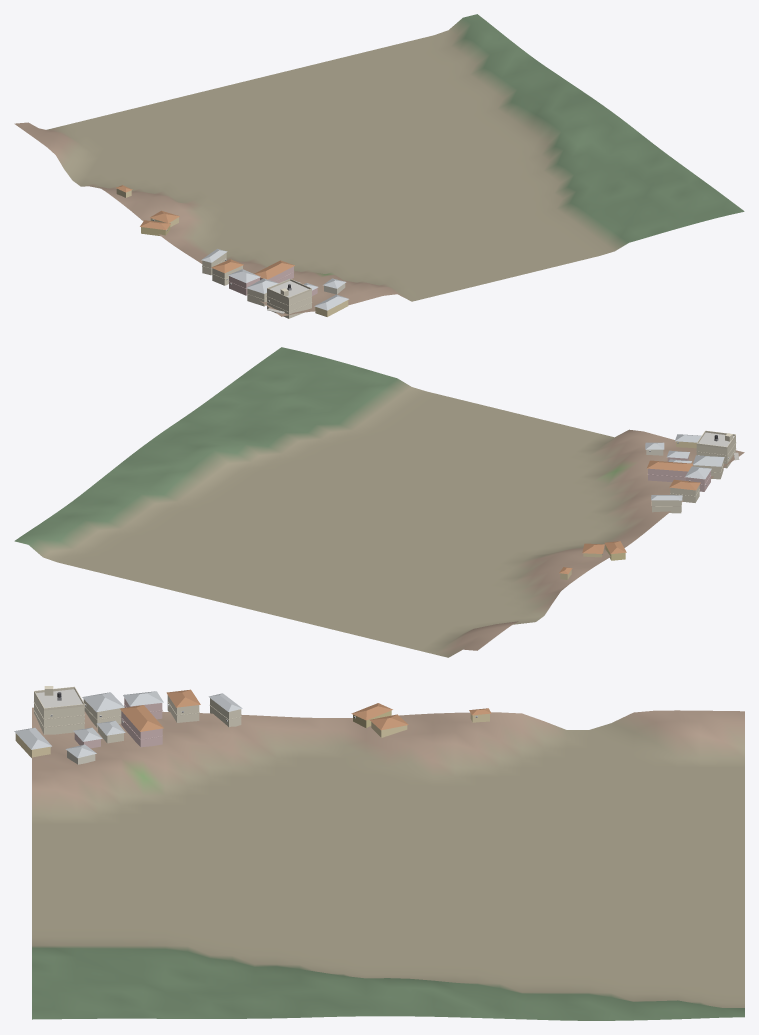
The picture shows the model from 3 angles, top to bottom: view 1: azimuth 30°, elevation 25°; view 2: azimuth 150°, elevation 25°; view 3: azimuth 270°, elevation 25°; orthographic projection. The views are drawn at different scales.
Parts seen in each view (by area): view 1: Terrain-col, Buildings-col, Details; view 2: Terrain-col, Buildings-col, Details; view 3: Terrain-col, Buildings-col, Details.
Boxes of the visible parts, x1=… form: Terrain-col: x1=14, y1=14, x2=744, y2=316; Buildings-col: x1=116, y1=185, x2=348, y2=318; Details: x1=152, y1=219, x2=312, y2=312; Terrain-col: x1=14, y1=347, x2=744, y2=657; Buildings-col: x1=559, y1=432, x2=735, y2=579; Details: x1=602, y1=430, x2=736, y2=554; Terrain-col: x1=32, y1=707, x2=744, y2=1020; Buildings-col: x1=14, y1=689, x2=491, y2=764; Details: x1=33, y1=686, x2=477, y2=747.
Size of the model in its own units: 263 by 19.47 by 262.
